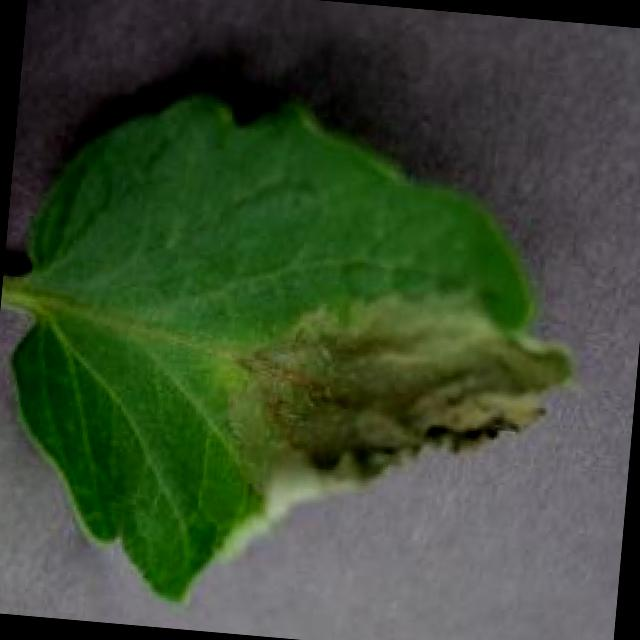leaf blight: (0, 90, 568, 603)
